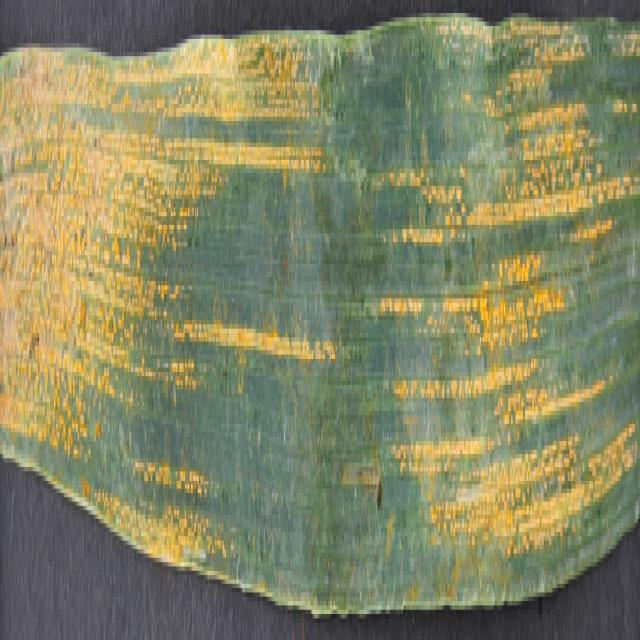leaf rust: (1, 31, 344, 606), (367, 30, 640, 583)
